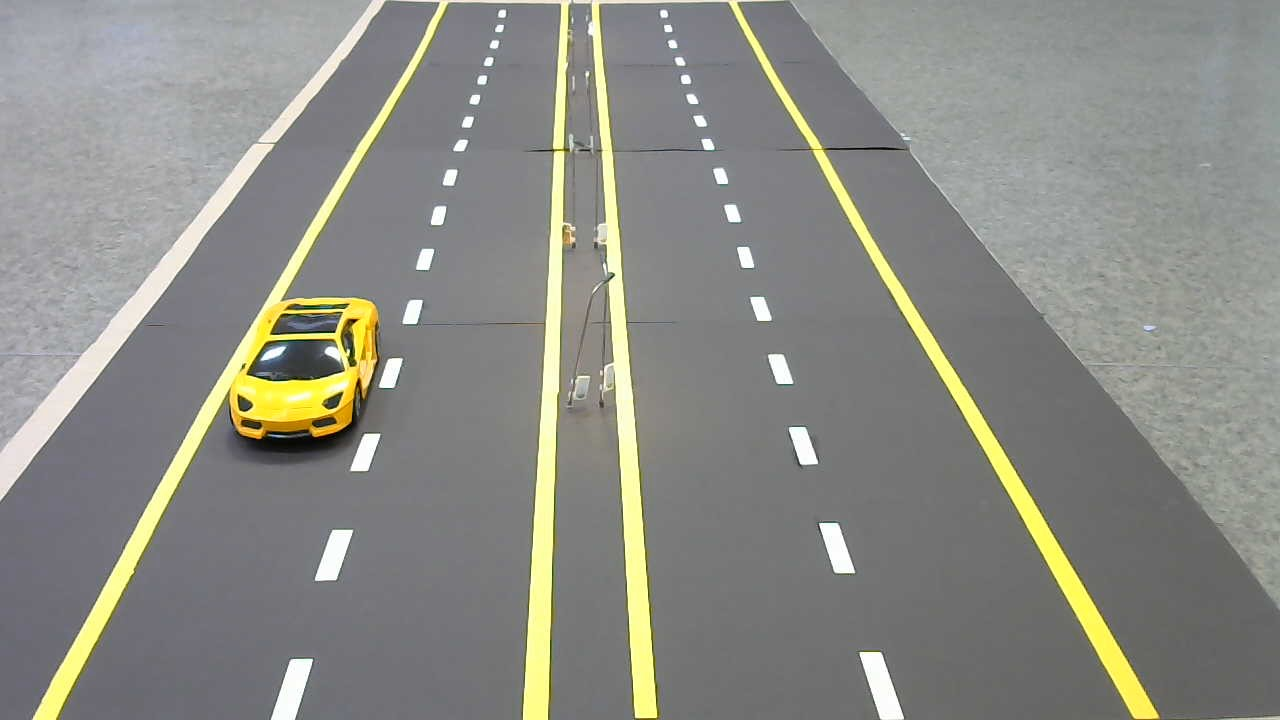front_car: (224, 292, 386, 462)
